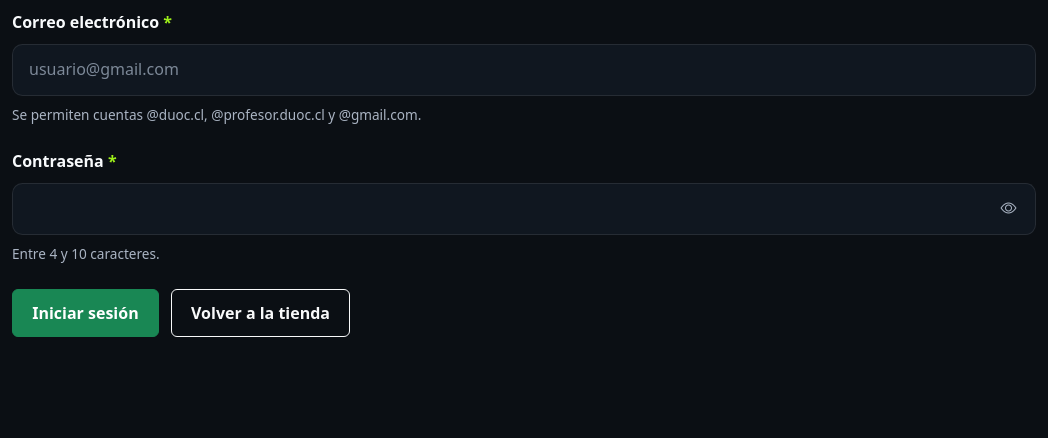
LoginForm › permite reintentar si el servicio produce un error inesperado
This screenshot has width=1048, height=438.
Type "camila@gmail.com" into the field labelled "Correo electrónico" at (524, 70), box [12,44,1036,96]
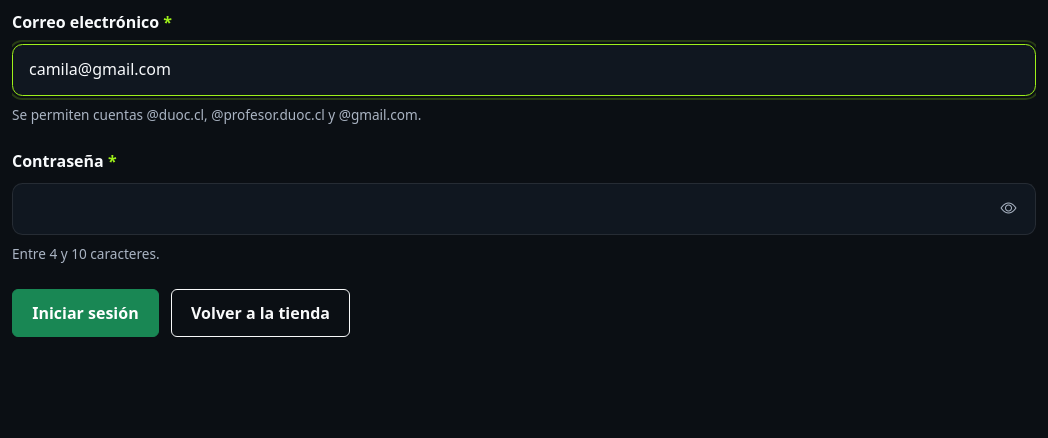
Type "1234" into the password field labelled "Contraseña *" at (524, 209), box [12,183,1036,235]
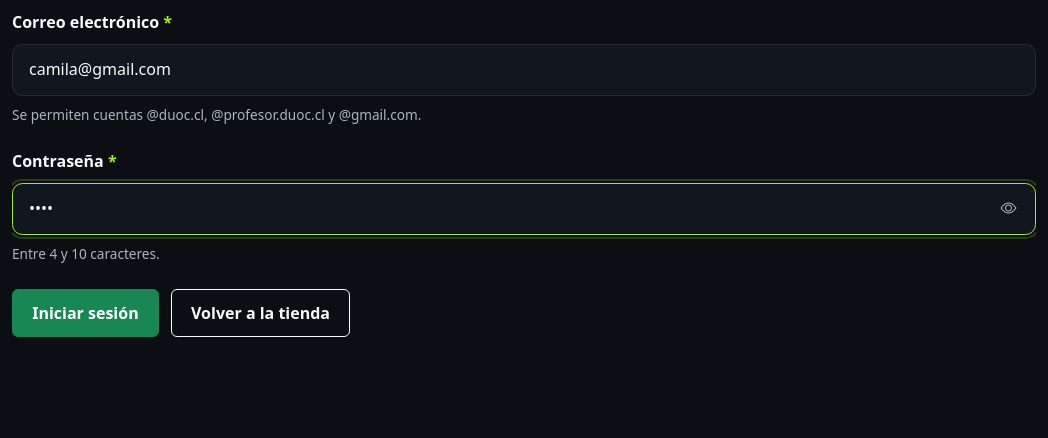
Click the button "Iniciar sesión" at (85, 313), box [12,289,159,337]
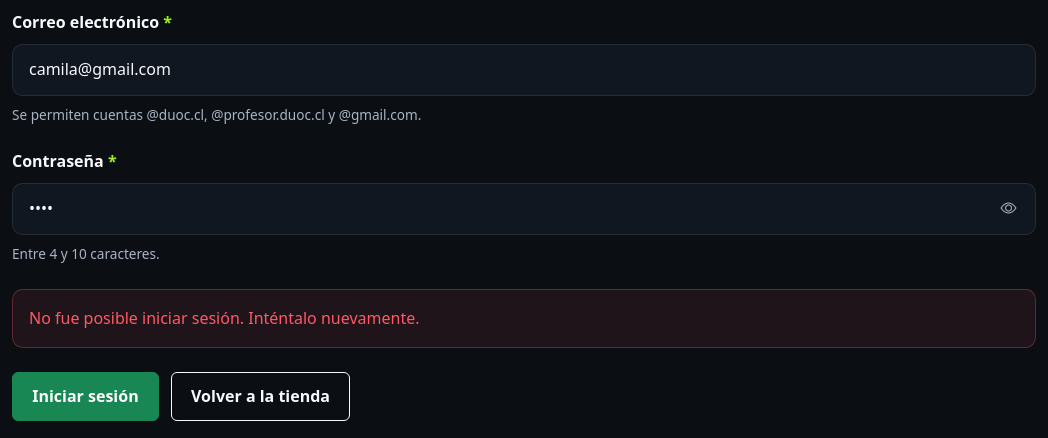
Expected: the button "Iniciar sesión" is enabled, [12,372,159,421]
Expected: the message reads "No fue posible iniciar sesión. Inténtalo nuevamente.", [29,307,420,329]
